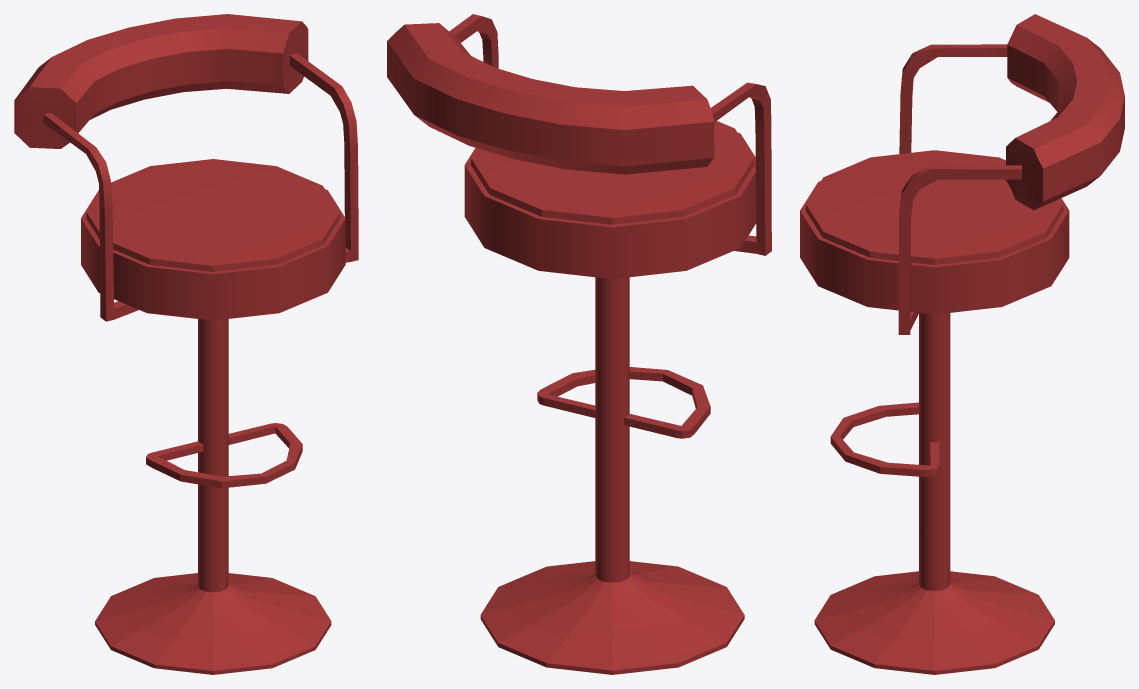
The model's file is GamblingChair.fbx.
3 views of the same model, side by side, from view 1: azimuth 30°, elevation 25°; view 2: azimuth 150°, elevation 25°; view 3: azimuth 270°, elevation 25° (orthographic). The views are drawn at different scales.
Visible parts, largest first — view 1: pCube17; view 2: pCube17; view 3: pCube17.
Part boxes in pixels (x1=…): pCube17: x1=14, y1=14, x2=358, y2=674; pCube17: x1=387, y1=14, x2=771, y2=674; pCube17: x1=800, y1=14, x2=1124, y2=674.
Bounding box in the file's own units: 62.41 × 109 × 58.79.
